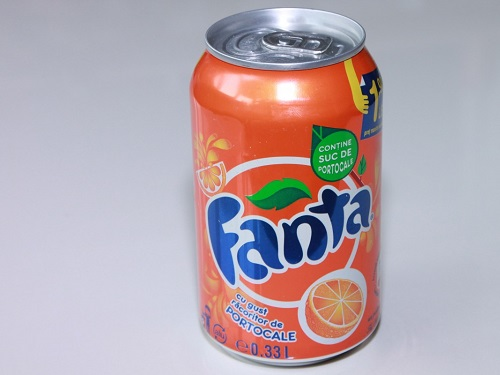Fanta: (182, 11, 388, 365)
